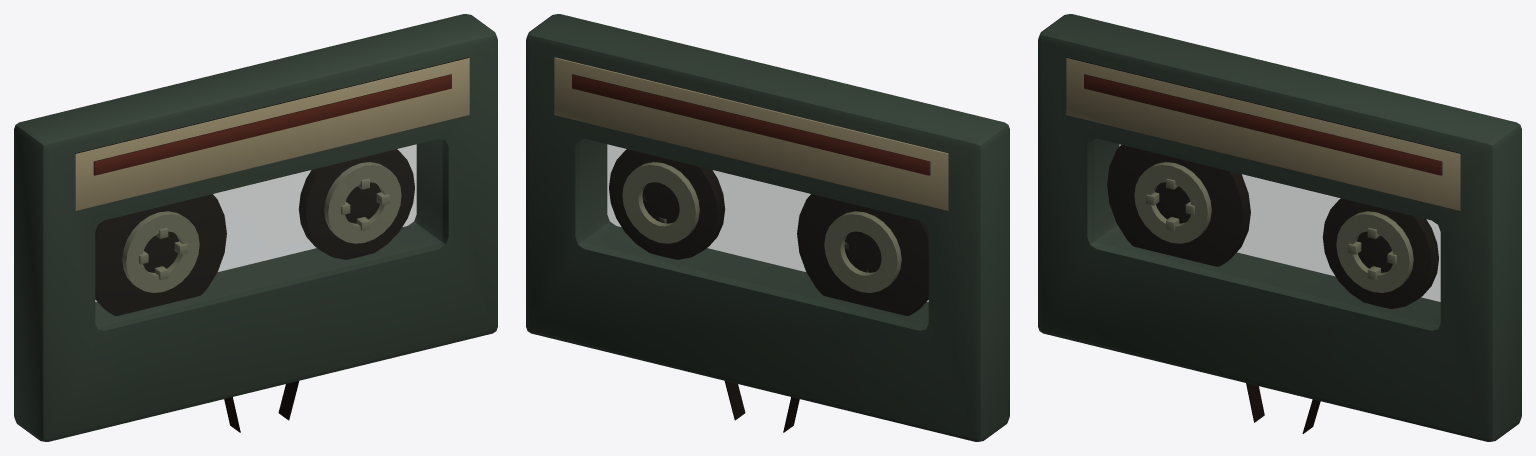
The model's file is Tape_03.fbx.
The picture shows the model from 3 angles, left to right: view 1: azimuth 30°, elevation 25°; view 2: azimuth 150°, elevation 25°; view 3: azimuth 330°, elevation 25°; orthographic projection.
Parts seen in each view (by area): view 1: Tape_03_Shell, Tape_03_Radio_Glass, Tape_03_Radio_Paper, TapeWinding.004, TapeWinding.005, Tape_03_Radio_RustRed, Tape_03_Reel_L_PIVOT_Radio_Spool, Tape_03_Reel_R_PIVOT_Radio_Spool, BrokenEnd_R; view 2: Tape_03_Shell, Tape_03_Radio_Glass, Tape_03_Radio_Paper, TapeWinding.004, TapeWinding.005, Tape_03_Radio_RustRed, Tape_03_Reel_R_PIVOT_Radio_Spool, Tape_03_Reel_L_PIVOT_Radio_Spool, BrokenEnd_R; view 3: Tape_03_Shell, Tape_03_Radio_Glass, Tape_03_Radio_Paper, TapeWinding.004, TapeWinding.005, Tape_03_Radio_RustRed, Tape_03_Reel_R_PIVOT_Radio_Spool, Tape_03_Reel_L_PIVOT_Radio_Spool.
Boxes of the visible parts, left/top/right/bottom form: Tape_03_Shell: left=14, top=14, right=497, bottom=441; Tape_03_Radio_Glass: left=95, top=139, right=442, bottom=326; Tape_03_Radio_Paper: left=75, top=57, right=469, bottom=210; TapeWinding.004: left=95, top=194, right=226, bottom=315; TapeWinding.005: left=298, top=149, right=414, bottom=259; Tape_03_Radio_RustRed: left=93, top=74, right=451, bottom=175; Tape_03_Reel_L_PIVOT_Radio_Spool: left=122, top=211, right=199, bottom=292; Tape_03_Reel_R_PIVOT_Radio_Spool: left=324, top=162, right=401, bottom=243; BrokenEnd_R: left=278, top=381, right=299, bottom=420; Tape_03_Shell: left=526, top=14, right=1009, bottom=441; Tape_03_Radio_Glass: left=581, top=139, right=928, bottom=326; Tape_03_Radio_Paper: left=554, top=57, right=948, bottom=210; TapeWinding.004: left=797, top=194, right=928, bottom=315; TapeWinding.005: left=609, top=149, right=725, bottom=259; Tape_03_Radio_RustRed: left=572, top=74, right=930, bottom=175; Tape_03_Reel_R_PIVOT_Radio_Spool: left=622, top=162, right=699, bottom=243; Tape_03_Reel_L_PIVOT_Radio_Spool: left=824, top=211, right=901, bottom=292; BrokenEnd_R: left=724, top=381, right=745, bottom=420; Tape_03_Shell: left=1038, top=14, right=1521, bottom=441; Tape_03_Radio_Glass: left=1093, top=139, right=1440, bottom=326; Tape_03_Radio_Paper: left=1066, top=57, right=1460, bottom=210; TapeWinding.004: left=1107, top=145, right=1250, bottom=266; TapeWinding.005: left=1322, top=198, right=1438, bottom=308; Tape_03_Radio_RustRed: left=1084, top=74, right=1442, bottom=175; Tape_03_Reel_R_PIVOT_Radio_Spool: left=1336, top=211, right=1413, bottom=292; Tape_03_Reel_L_PIVOT_Radio_Spool: left=1134, top=162, right=1211, bottom=243.
Bounding box in the file's own units: 10 × 7.23 × 1.29.
6 materials, 6 textured.
